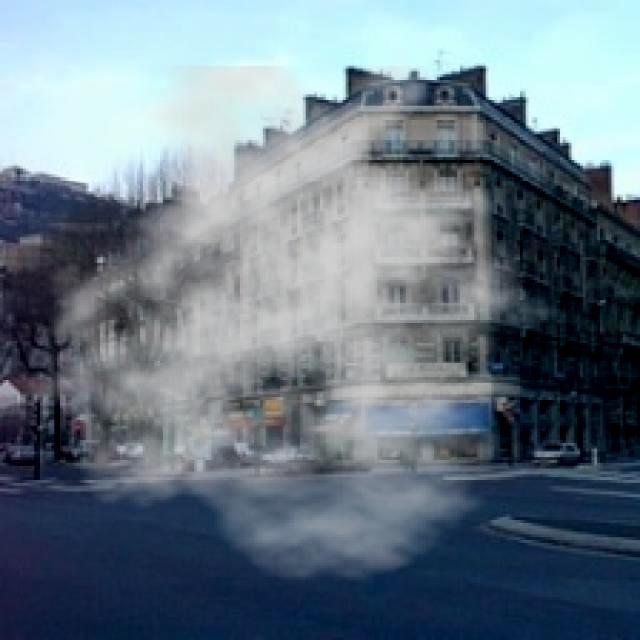no_helmet: (23, 66, 586, 583)
